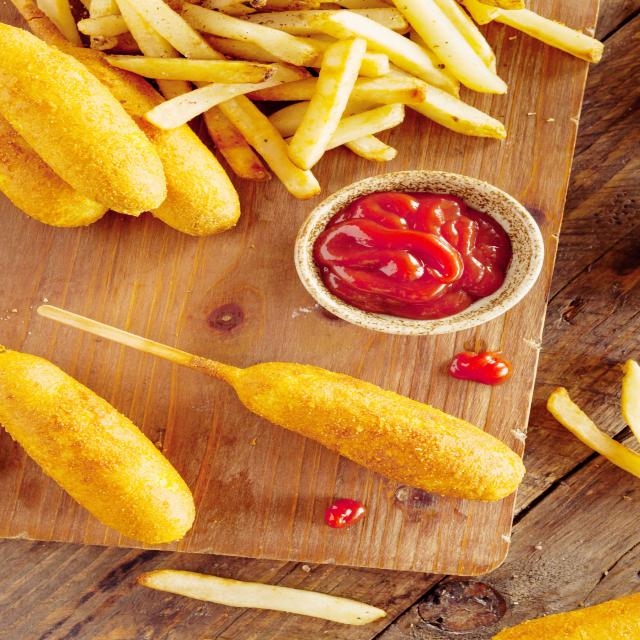ketchup: (288, 179, 540, 332)
